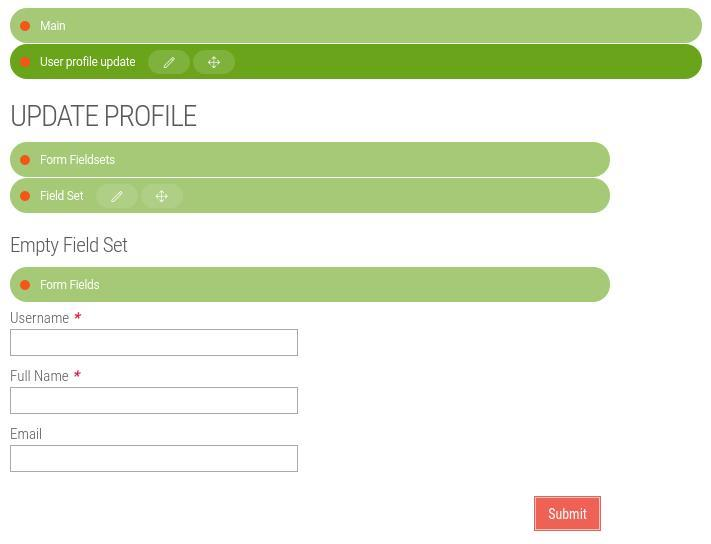button: (535, 498, 601, 532)
icon: (161, 56, 182, 73), (156, 190, 173, 206), (209, 57, 225, 71), (113, 191, 127, 207)
input: (11, 387, 298, 417), (11, 446, 298, 473), (11, 331, 298, 356)
label: (10, 103, 204, 130), (9, 231, 131, 259), (8, 368, 86, 384), (8, 311, 85, 327), (10, 426, 46, 441)
